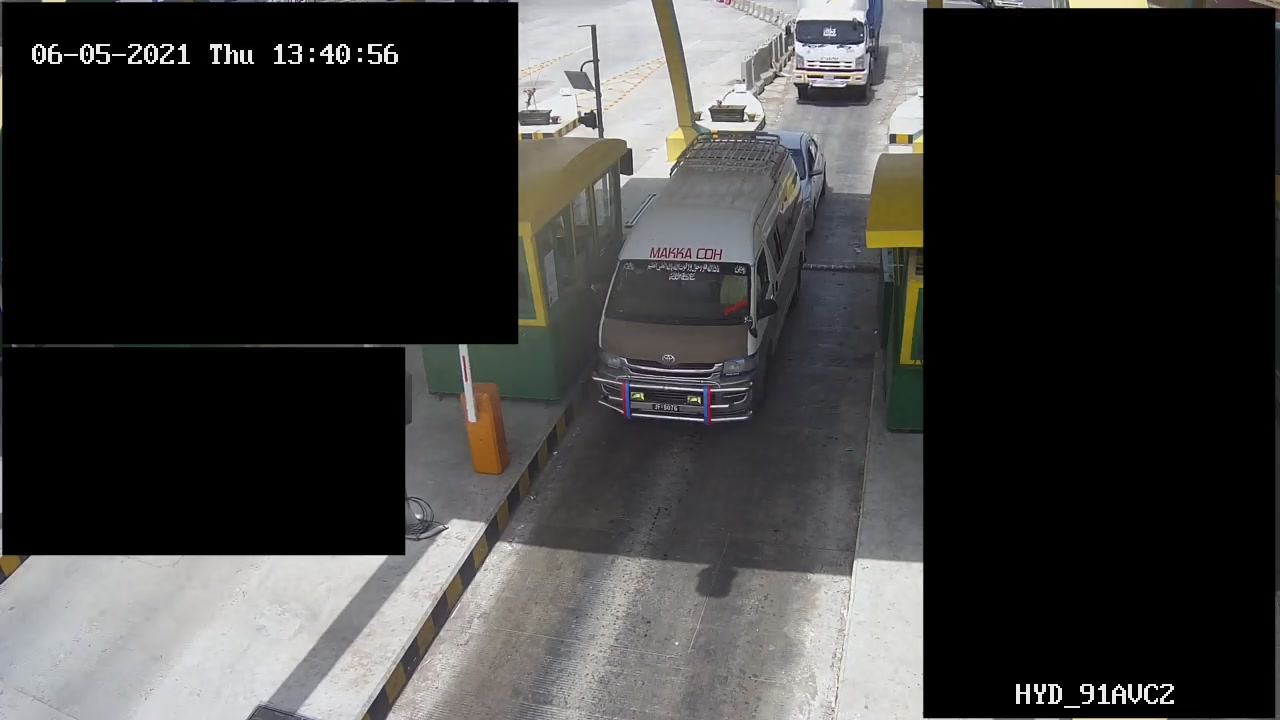F2: (588, 134, 809, 436)
